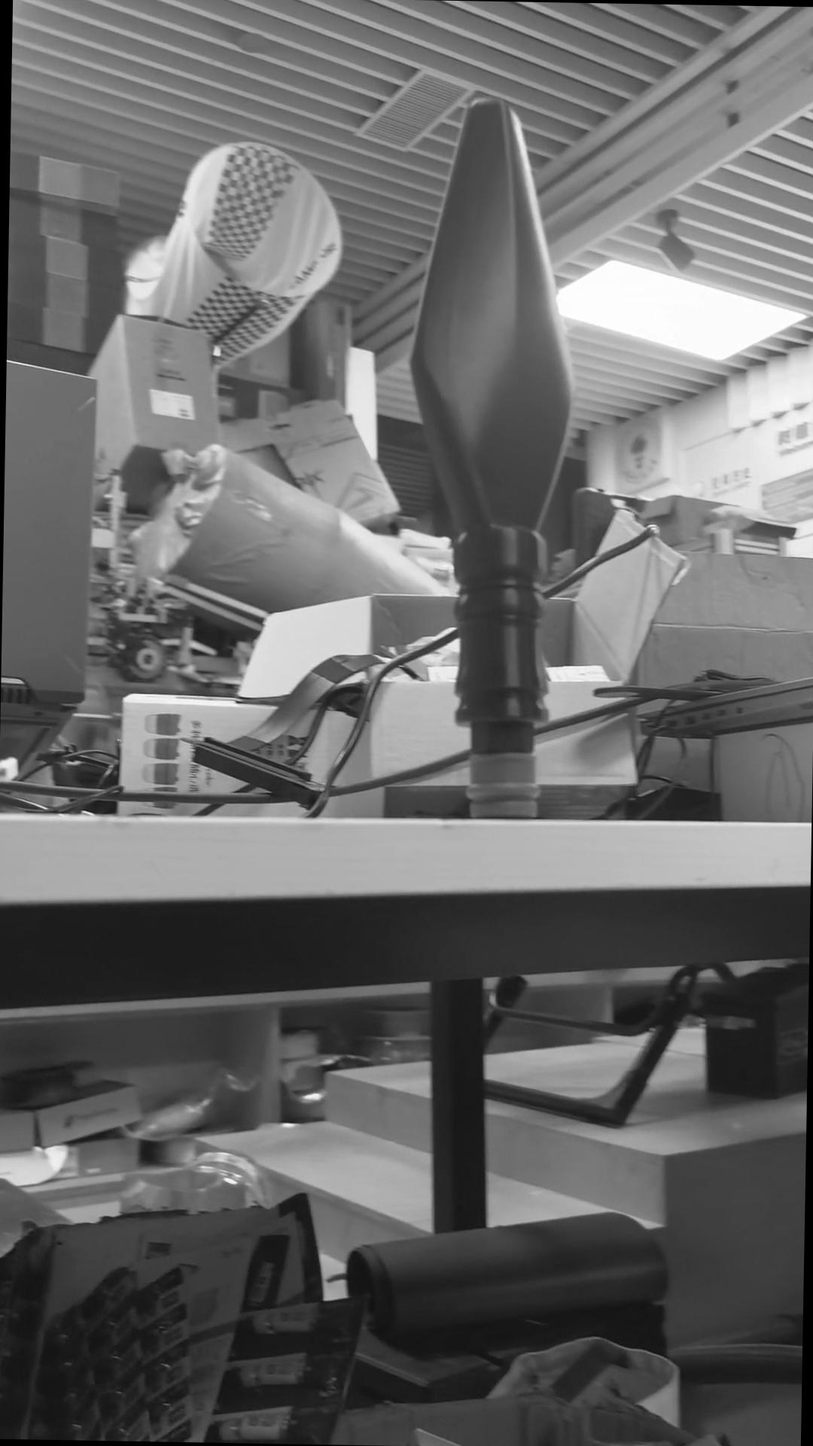base: (465, 747, 540, 822)
